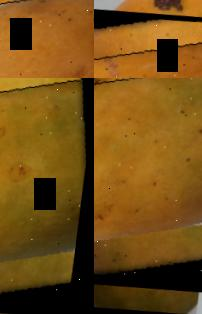PartiallyRipe: (94, 78, 202, 292), (0, 78, 94, 314)
Ripe: (94, 9, 202, 78), (0, 0, 94, 78)
